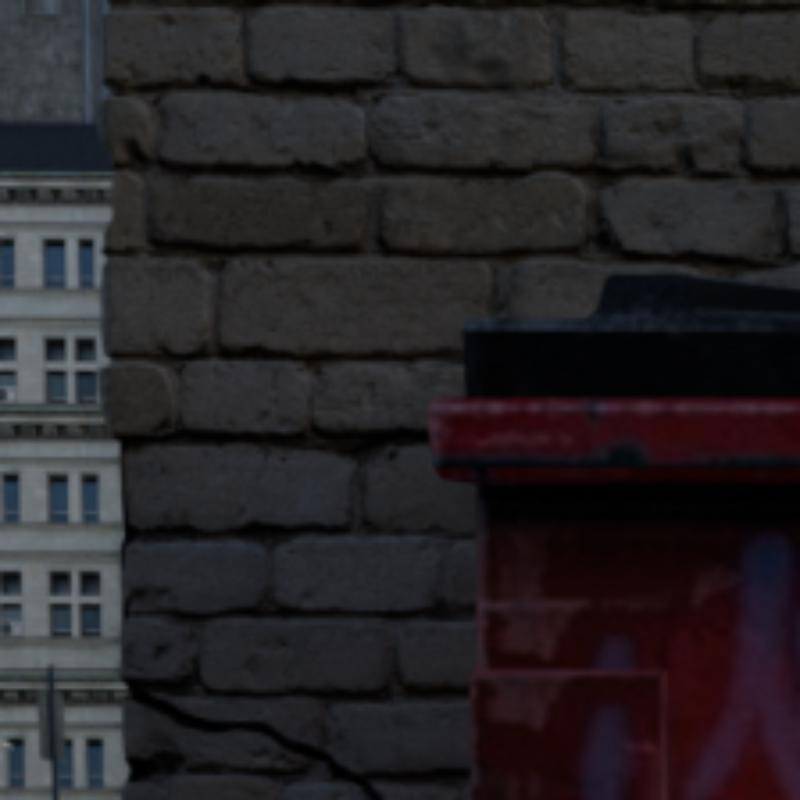pothole: (129, 689, 379, 796)
